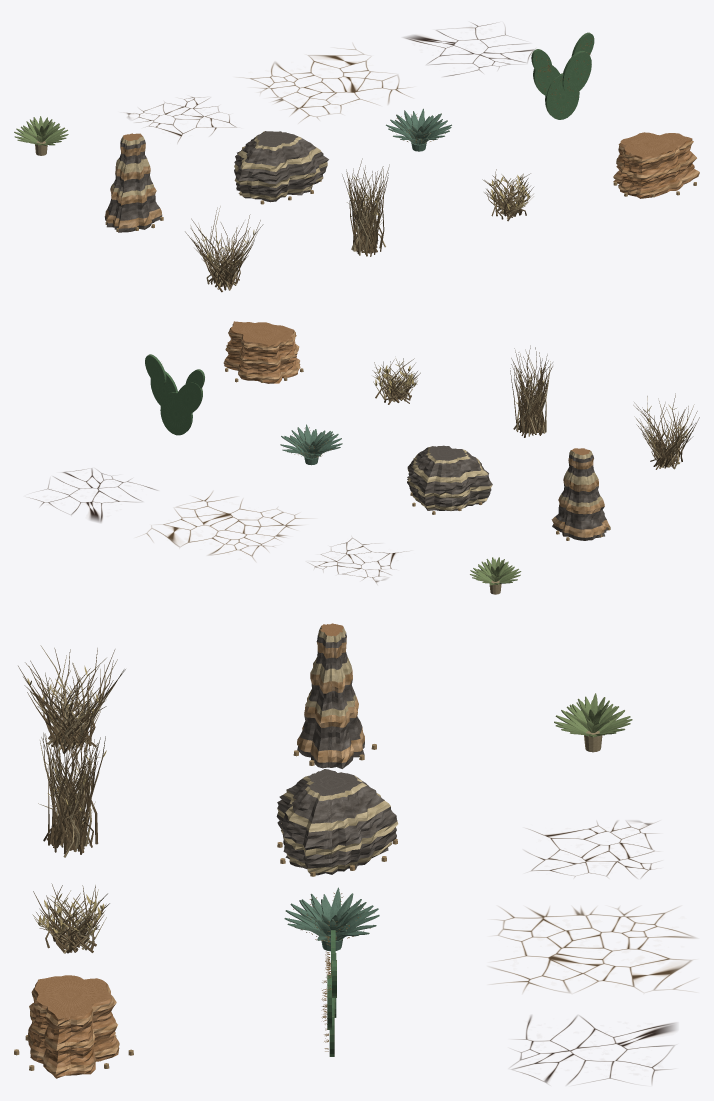
Rendered from PZ_Desert_Dryland_Scatter_DK26.glb.
The picture shows the model from 3 angles, top to bottom: view 1: azimuth 30°, elevation 25°; view 2: azimuth 150°, elevation 25°; view 3: azimuth 270°, elevation 25°; orthographic projection. The views are drawn at different scales.
Parts seen in each view (by area): view 1: ROCK_03_DARK_BOULDER__ROCK_BODY, ROCK_01_ERODED_SANDSTONE__ROCK_BODY, ROCK_02_WIND_SPINE__ROCK_BODY, SUCCULENT_02_PRICKLY_PEAR__OPUNTIA_PADS, BUSH_02_THORNBUSH__LIGNIFIED_STEMS, BUSH_01_WIND_TUMBLEWEED__LIGNIFIED_STEMS, SOIL_DECAL_02_POLYGON_CRACKS__ALPHA_CRACK_OVERLAY, SUCCULENT_01_BLUE_AGAVE__FLESHY_SPEARS, BUSH_03_LOW_SALTBUSH__LIGNIFIED_STEMS, SUCCULENT_03_DESERT_ALOE__THICK_ALOE_LEAVES, SOIL_DECAL_03_DUSTY_HARDPAN__ALPHA_CRACK_OVERLAY, SOIL_DECAL_01_FINE_FRACTURE__ALPHA_CRACK_OVERLAY; view 2: ROCK_03_DARK_BOULDER__ROCK_BODY, ROCK_01_ERODED_SANDSTONE__ROCK_BODY, ROCK_02_WIND_SPINE__ROCK_BODY, SUCCULENT_02_PRICKLY_PEAR__OPUNTIA_PADS, BUSH_02_THORNBUSH__LIGNIFIED_STEMS, BUSH_01_WIND_TUMBLEWEED__LIGNIFIED_STEMS, SOIL_DECAL_02_POLYGON_CRACKS__ALPHA_CRACK_OVERLAY, SUCCULENT_01_BLUE_AGAVE__FLESHY_SPEARS, BUSH_03_LOW_SALTBUSH__LIGNIFIED_STEMS, SUCCULENT_03_DESERT_ALOE__THICK_ALOE_LEAVES, SOIL_DECAL_03_DUSTY_HARDPAN__ALPHA_CRACK_OVERLAY, SOIL_DECAL_01_FINE_FRACTURE__ALPHA_CRACK_OVERLAY; view 3: ROCK_03_DARK_BOULDER__ROCK_BODY, ROCK_01_ERODED_SANDSTONE__ROCK_BODY, ROCK_02_WIND_SPINE__ROCK_BODY, BUSH_02_THORNBUSH__LIGNIFIED_STEMS, BUSH_01_WIND_TUMBLEWEED__LIGNIFIED_STEMS, SOIL_DECAL_02_POLYGON_CRACKS__ALPHA_CRACK_OVERLAY, SUCCULENT_01_BLUE_AGAVE__FLESHY_SPEARS, BUSH_03_LOW_SALTBUSH__LIGNIFIED_STEMS, SUCCULENT_03_DESERT_ALOE__THICK_ALOE_LEAVES, SOIL_DECAL_03_DUSTY_HARDPAN__ALPHA_CRACK_OVERLAY, SOIL_DECAL_01_FINE_FRACTURE__ALPHA_CRACK_OVERLAY, SUCCULENT_02_PRICKLY_PEAR__OPUNTIA_PADS (+1 smaller).
Part boxes in pixels (bbox=[...]): ROCK_03_DARK_BOULDER__ROCK_BODY: bbox=[234, 131, 328, 202]; ROCK_01_ERODED_SANDSTONE__ROCK_BODY: bbox=[613, 132, 699, 198]; ROCK_02_WIND_SPINE__ROCK_BODY: bbox=[104, 133, 162, 232]; SUCCULENT_02_PRICKLY_PEAR__OPUNTIA_PADS: bbox=[531, 32, 594, 119]; BUSH_02_THORNBUSH__LIGNIFIED_STEMS: bbox=[342, 158, 389, 256]; BUSH_01_WIND_TUMBLEWEED__LIGNIFIED_STEMS: bbox=[185, 206, 263, 292]; SOIL_DECAL_02_POLYGON_CRACKS__ALPHA_CRACK_OVERLAY: bbox=[246, 44, 409, 121]; SUCCULENT_01_BLUE_AGAVE__FLESHY_SPEARS: bbox=[386, 108, 451, 144]; BUSH_03_LOW_SALTBUSH__LIGNIFIED_STEMS: bbox=[482, 169, 533, 221]; SUCCULENT_03_DESERT_ALOE__THICK_ALOE_LEAVES: bbox=[14, 116, 68, 145]; SOIL_DECAL_03_DUSTY_HARDPAN__ALPHA_CRACK_OVERLAY: bbox=[404, 23, 534, 76]; SOIL_DECAL_01_FINE_FRACTURE__ALPHA_CRACK_OVERLAY: bbox=[126, 97, 236, 142]; ROCK_03_DARK_BOULDER__ROCK_BODY: bbox=[407, 445, 492, 510]; ROCK_01_ERODED_SANDSTONE__ROCK_BODY: bbox=[223, 321, 300, 383]; ROCK_02_WIND_SPINE__ROCK_BODY: bbox=[551, 448, 609, 540]; SUCCULENT_02_PRICKLY_PEAR__OPUNTIA_PADS: bbox=[145, 354, 204, 435]; BUSH_02_THORNBUSH__LIGNIFIED_STEMS: bbox=[510, 345, 552, 437]; BUSH_01_WIND_TUMBLEWEED__LIGNIFIED_STEMS: bbox=[633, 393, 699, 469]; SOIL_DECAL_02_POLYGON_CRACKS__ALPHA_CRACK_OVERLAY: bbox=[143, 492, 306, 560]; SUCCULENT_01_BLUE_AGAVE__FLESHY_SPEARS: bbox=[280, 424, 342, 458]; BUSH_03_LOW_SALTBUSH__LIGNIFIED_STEMS: bbox=[372, 358, 420, 404]; SUCCULENT_03_DESERT_ALOE__THICK_ALOE_LEAVES: bbox=[470, 557, 521, 585]; SOIL_DECAL_03_DUSTY_HARDPAN__ALPHA_CRACK_OVERLAY: bbox=[31, 468, 157, 522]; SOIL_DECAL_01_FINE_FRACTURE__ALPHA_CRACK_OVERLAY: bbox=[309, 537, 404, 583]; ROCK_03_DARK_BOULDER__ROCK_BODY: bbox=[276, 769, 398, 875]; ROCK_01_ERODED_SANDSTONE__ROCK_BODY: bbox=[27, 975, 119, 1078]; ROCK_02_WIND_SPINE__ROCK_BODY: bbox=[297, 623, 364, 768]; BUSH_02_THORNBUSH__LIGNIFIED_STEMS: bbox=[38, 720, 105, 857]; BUSH_01_WIND_TUMBLEWEED__LIGNIFIED_STEMS: bbox=[18, 645, 125, 756]; SOIL_DECAL_02_POLYGON_CRACKS__ALPHA_CRACK_OVERLAY: bbox=[491, 907, 695, 992]; SUCCULENT_01_BLUE_AGAVE__FLESHY_SPEARS: bbox=[284, 887, 379, 941]; BUSH_03_LOW_SALTBUSH__LIGNIFIED_STEMS: bbox=[32, 883, 109, 953]; SUCCULENT_03_DESERT_ALOE__THICK_ALOE_LEAVES: bbox=[554, 693, 632, 737]; SOIL_DECAL_03_DUSTY_HARDPAN__ALPHA_CRACK_OVERLAY: bbox=[511, 1015, 675, 1084]; SOIL_DECAL_01_FINE_FRACTURE__ALPHA_CRACK_OVERLAY: bbox=[526, 821, 655, 877]; SUCCULENT_02_PRICKLY_PEAR__OPUNTIA_PADS: bbox=[327, 930, 336, 1056].
Bounding box in the file's own units: 7.15 × 1.18 × 5.78.
2 materials, 2 textured.
